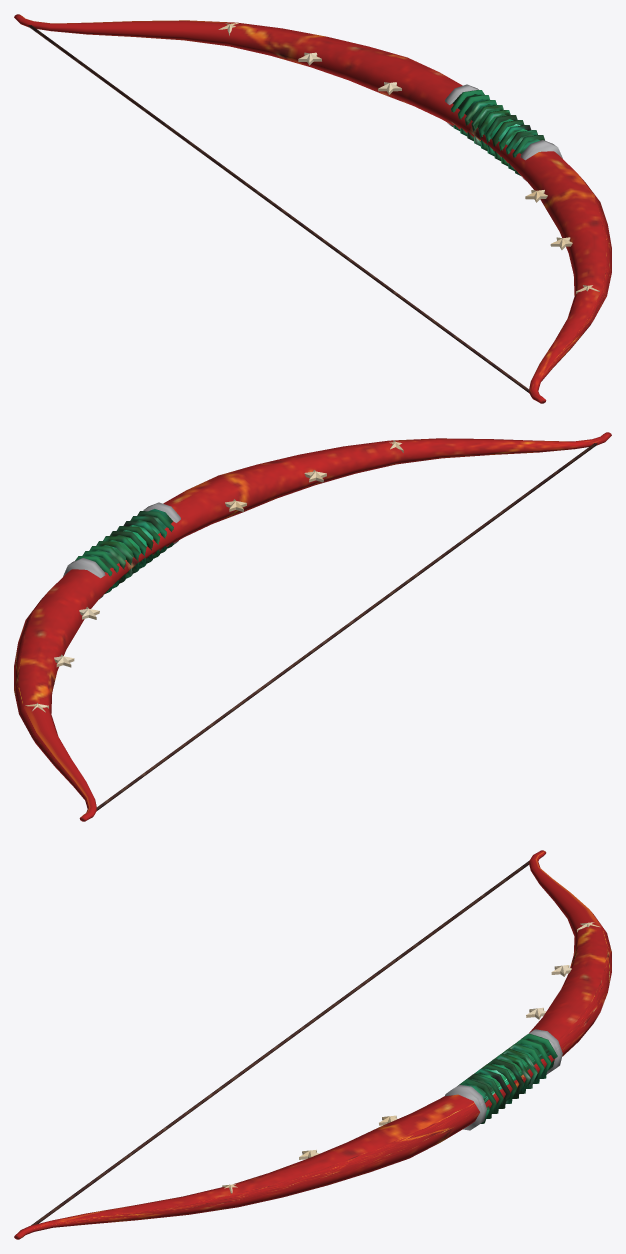
The model's file is item_bow4.glb.
3 views of the same model, one above another, from view 1: azimuth 30°, elevation 25°; view 2: azimuth 150°, elevation 25°; view 3: azimuth 330°, elevation 25° (orthographic).
Visible parts, largest first — view 1: item_bow4; view 2: item_bow4; view 3: item_bow4.
Boxes of the visible parts, left/top/right/bottom form: item_bow4: left=14, top=14, right=611, bottom=403; item_bow4: left=14, top=432, right=611, bottom=821; item_bow4: left=14, top=850, right=611, bottom=1239.
Bounding box in the file's own units: 0.2724 × 0.0453 × 1.
Materials: 1 (1 with a texture image).
